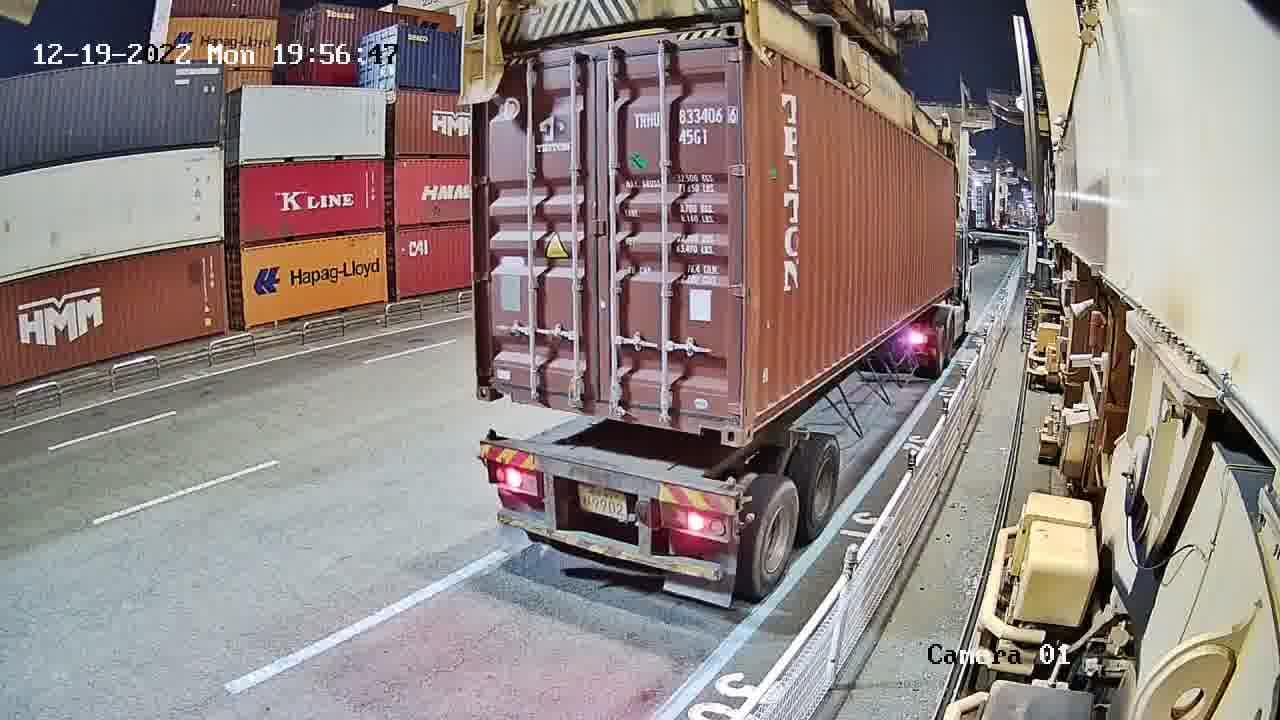Chassis: (479, 436, 745, 527)
Cone: (723, 475, 744, 510), (481, 427, 502, 442)
Hole_L: (740, 375, 778, 449), (475, 364, 512, 404)
Hole_R: (697, 392, 743, 448)
Tire: (757, 484, 798, 584), (805, 440, 840, 532)
